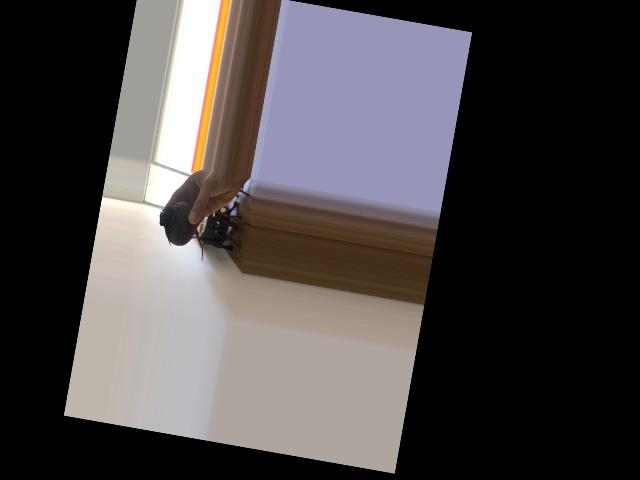beet: (153, 198, 212, 262)
